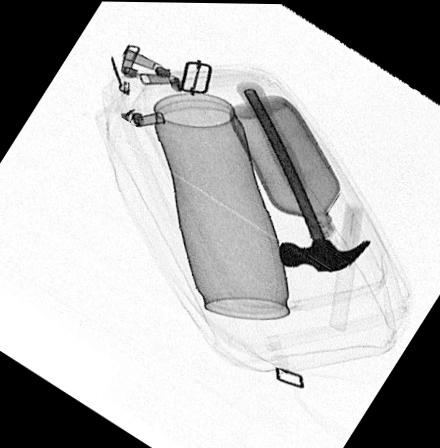Hammer: (234, 78, 370, 270)
